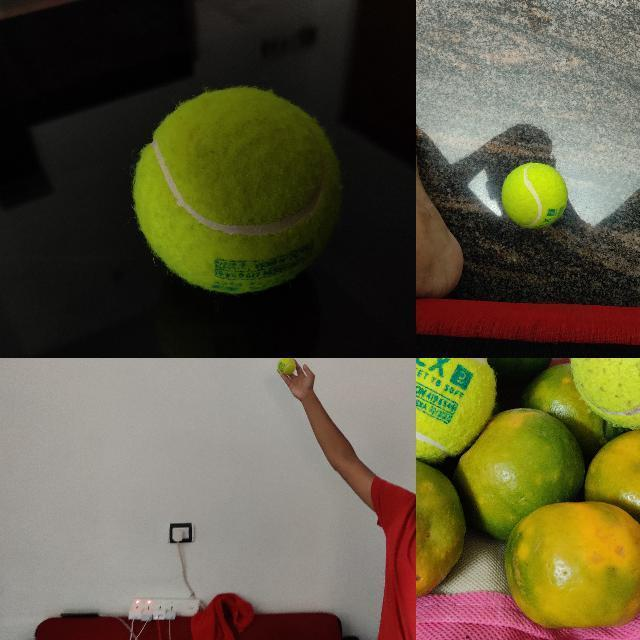tennis-ball: (133, 88, 343, 294), (568, 358, 639, 429), (416, 358, 464, 456), (501, 162, 568, 228), (277, 358, 296, 376)
